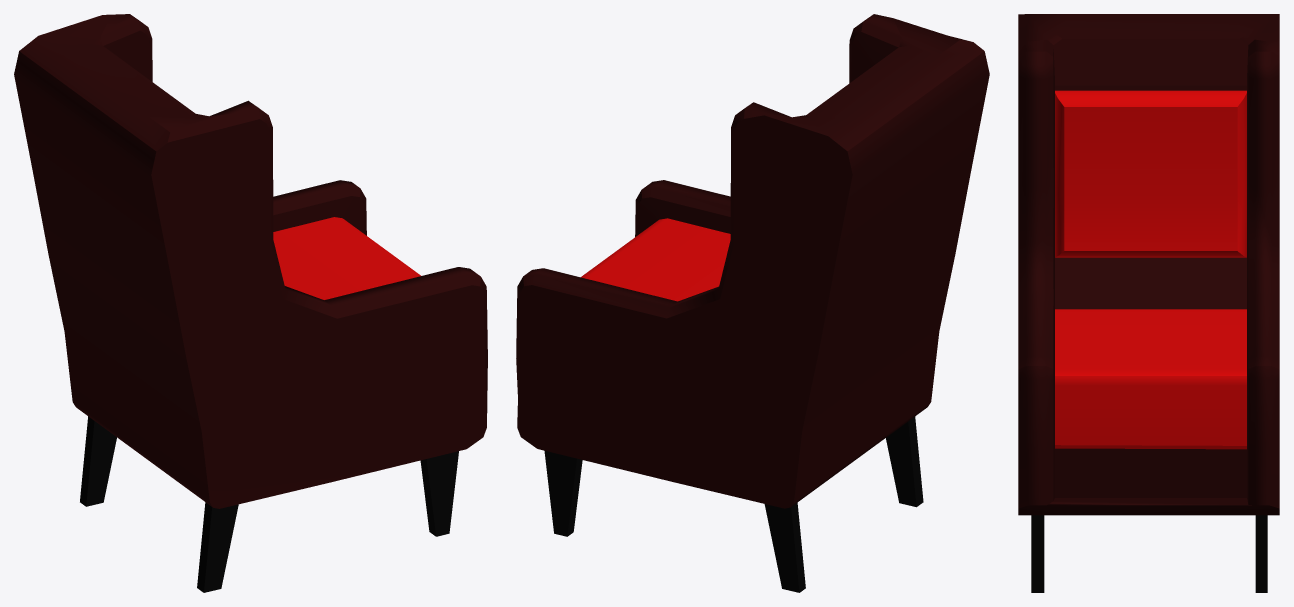
File: WingChair.fbx
The picture shows the model from 3 angles, left to right: view 1: azimuth 30°, elevation 25°; view 2: azimuth 150°, elevation 25°; view 3: azimuth 270°, elevation 25°; orthographic projection. The views are drawn at different scales.
Parts seen in each view (by area): view 1: WingChair; view 2: WingChair; view 3: WingChair.
Boxes of the visible parts, x1=… form: WingChair: x1=14, y1=14, x2=487, y2=592; WingChair: x1=516, y1=14, x2=989, y2=592; WingChair: x1=1018, y1=14, x2=1279, y2=592.
Bounding box in the file's own units: 223 × 298 × 156.
